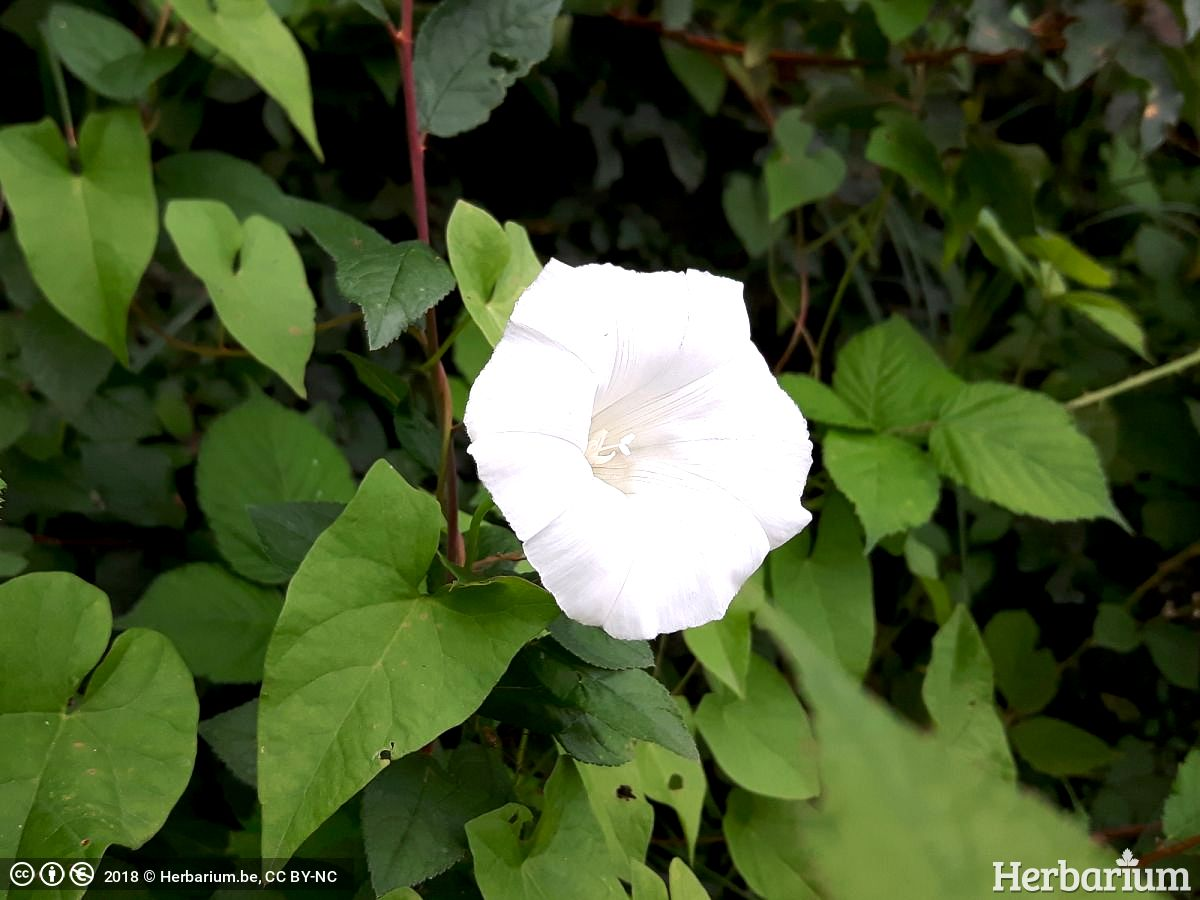haagwinde: (453, 221, 831, 646), (222, 436, 542, 890), (2, 103, 348, 420), (2, 563, 206, 900)
